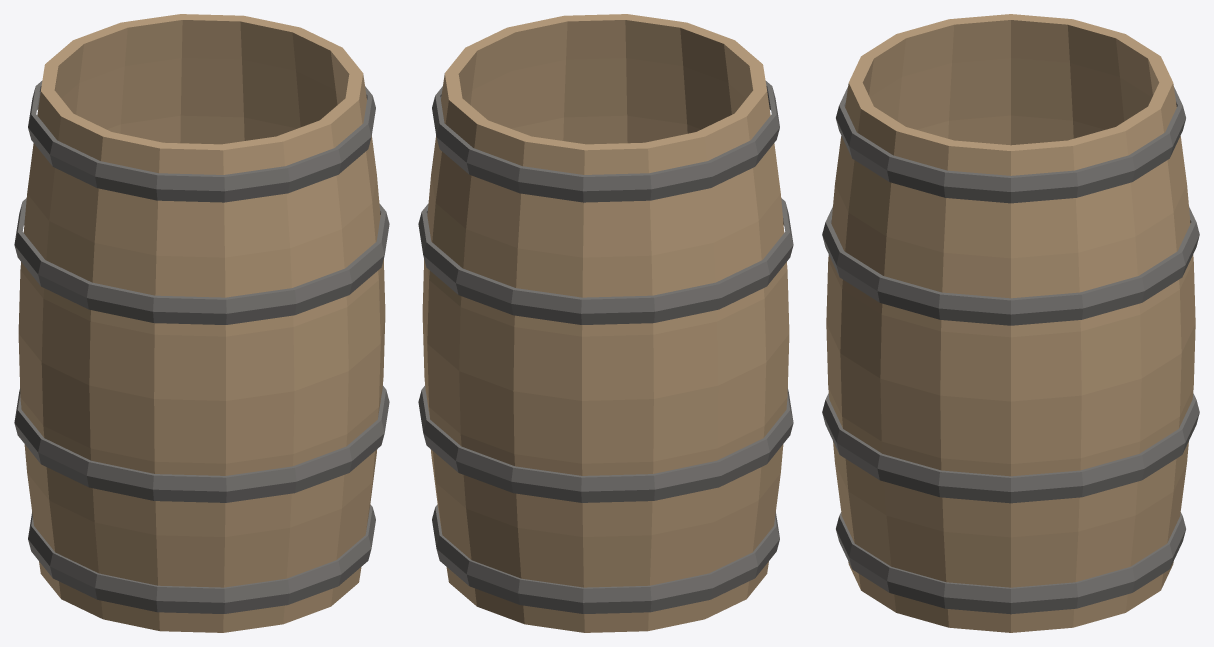
File: prop-barrel-open.fbx
3 renders of one model, left to right at view 1: azimuth 30°, elevation 25°; view 2: azimuth 150°, elevation 25°; view 3: azimuth 270°, elevation 25°, orthographic.
Parts seen in each view (by area): view 1: prop-barrel-open; view 2: prop-barrel-open; view 3: prop-barrel-open.
Part boxes in pixels (bbox=[...]): prop-barrel-open: bbox=[14, 14, 389, 632]; prop-barrel-open: bbox=[418, 14, 793, 632]; prop-barrel-open: bbox=[822, 14, 1199, 632].
Size of the model in its own units: 0.675 by 0.95 by 0.675.
